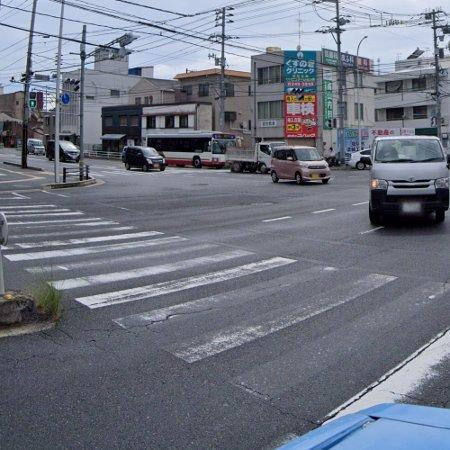crosswalks: (0, 201, 450, 422)
